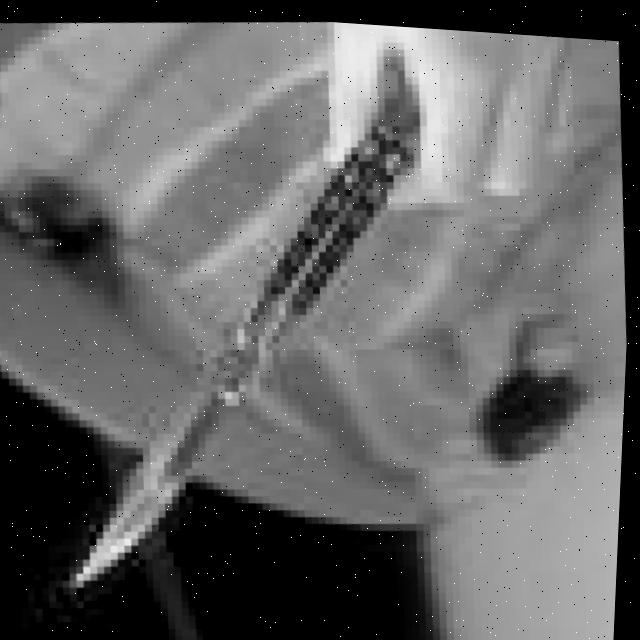knife: (30, 95, 449, 613)
